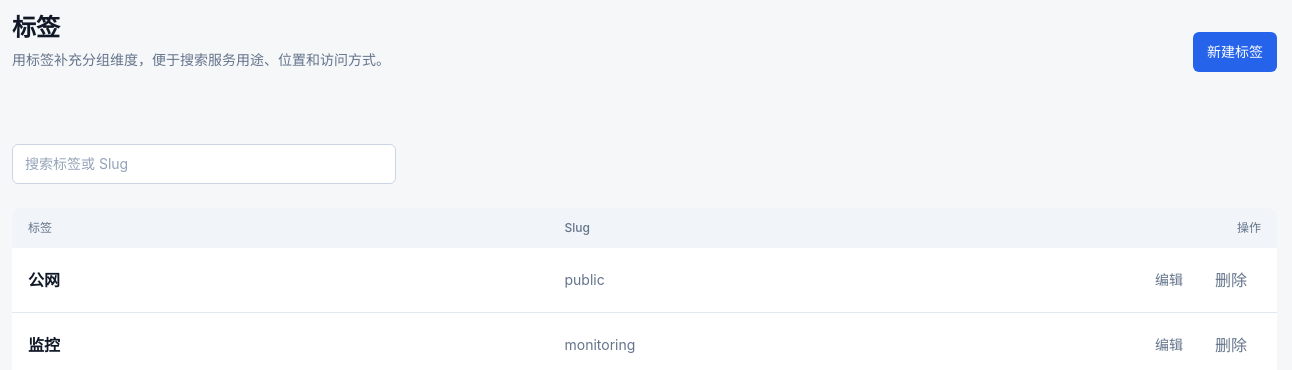
Test: TagsView › filters tags by search query
This screenshot has width=1292, height=370.
Type "monitor" into the search field named "搜索标签". click: (204, 164)
box: [12,144,396,184]
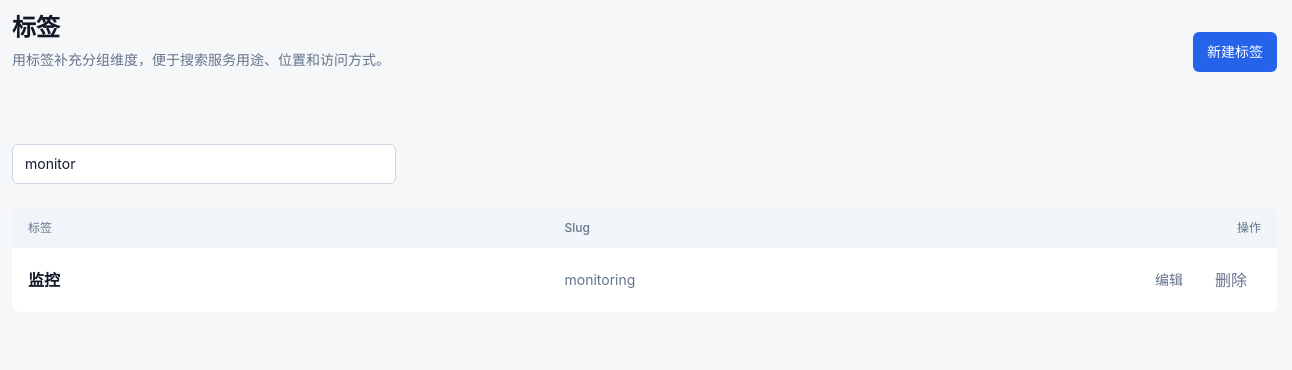
Check: the text "监控" is shown, box [28,270,60,290]
Check: the text "公网" is gone
Replace the text in the search field named "搜索标签" with "不存在". click: (204, 164)
box: [12,144,396,184]
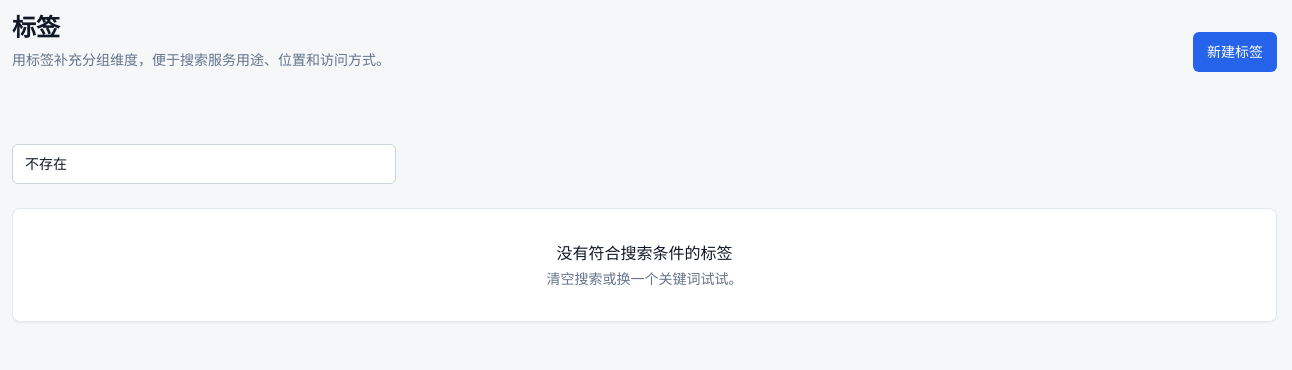
Check: the text "没有符合搜索条件的标签" is shown, box [556,243,732,263]
